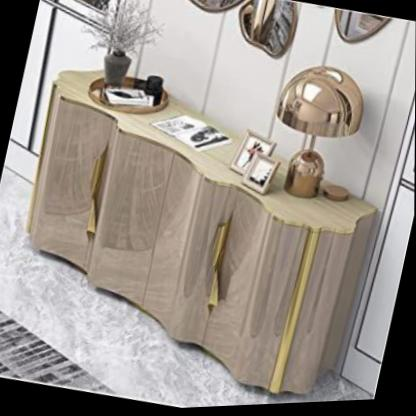Ceramic floor: (0, 146, 375, 409)
Sideboard: (26, 71, 373, 394)
